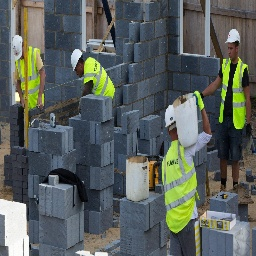helmet: (162, 97, 179, 136), (224, 22, 241, 51), (10, 31, 24, 61), (70, 45, 83, 76)
person: (161, 99, 203, 253), (212, 19, 249, 193), (8, 28, 47, 129), (69, 41, 116, 106)
vest: (160, 138, 197, 232), (220, 54, 247, 134), (16, 49, 46, 112), (83, 51, 113, 105)
